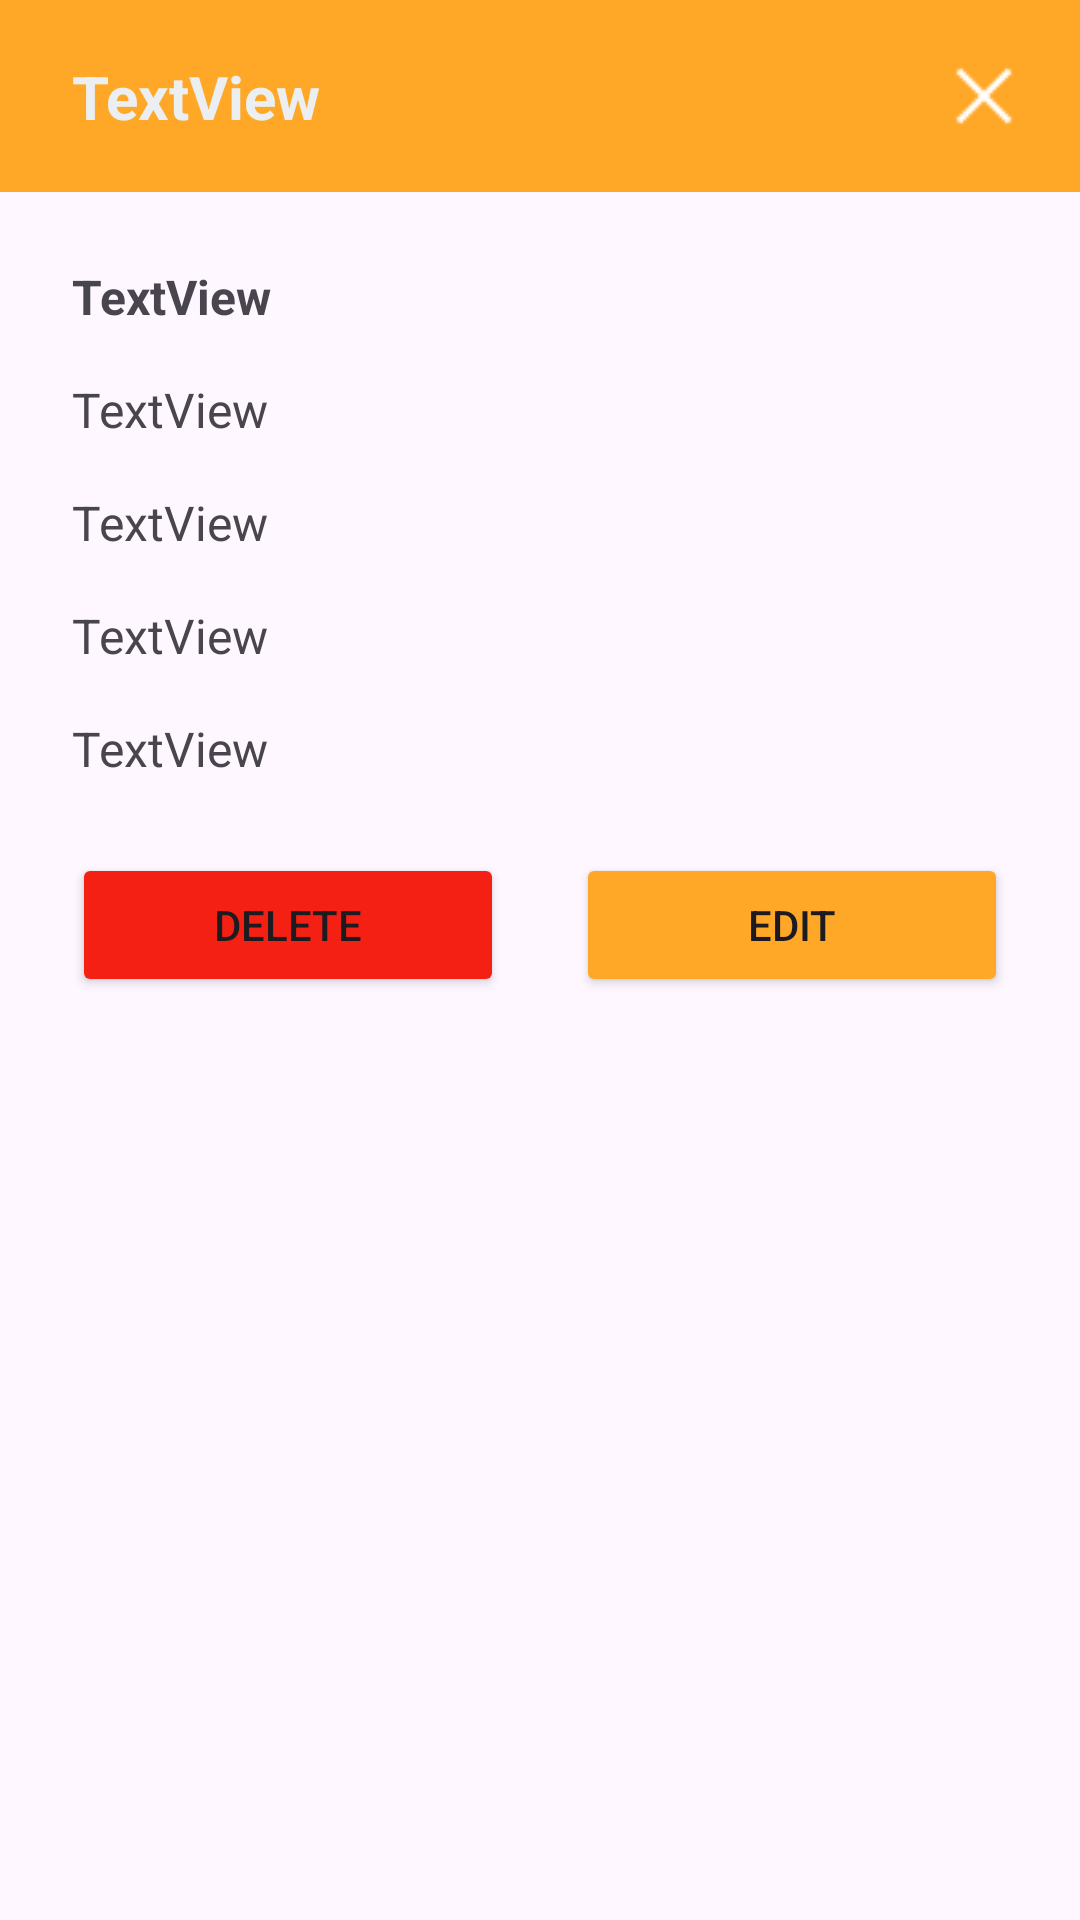

Icon bounding boxes for this 1080w x 1920h phone screenshot, format (x1, y1, x2, y2):
Close: (956, 68, 1012, 124)
